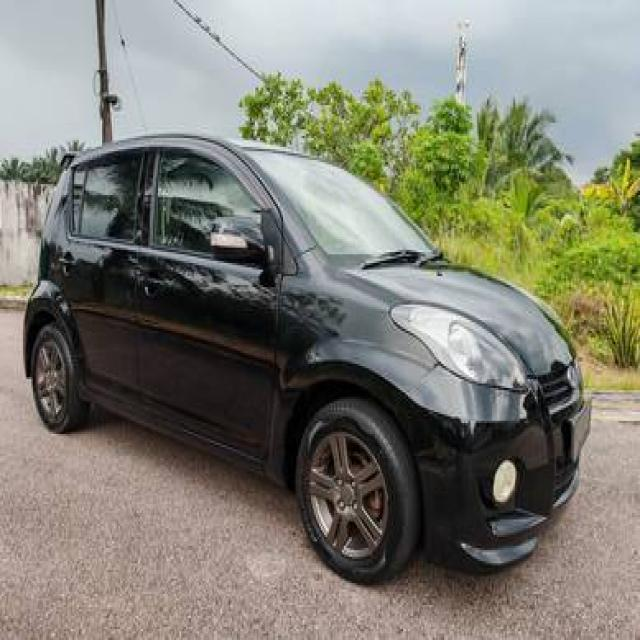PeroduaMyvi: (20, 127, 592, 585)
